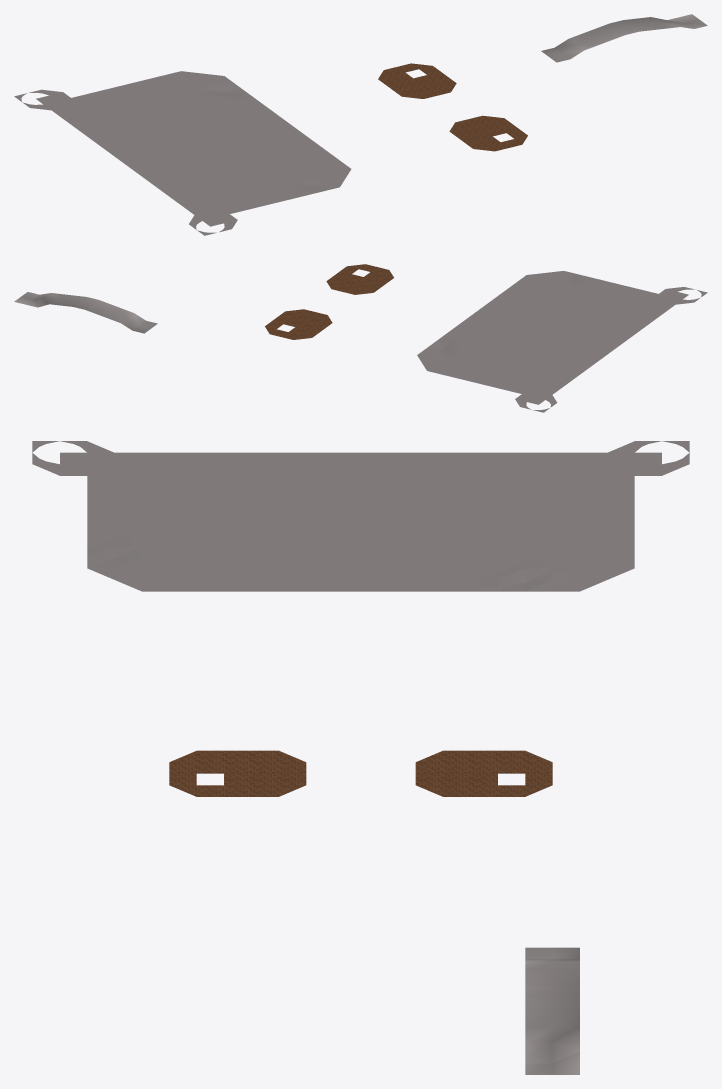
3 views of the same model, one above another, from view 1: azimuth 30°, elevation 25°; view 2: azimuth 150°, elevation 25°; view 3: azimuth 270°, elevation 25° (orthographic). The views are drawn at different scales.
Parts seen in each view (by area): view 1: model; view 2: model; view 3: model.
Boxes of the visible parts, x1=… form: model: x1=14, y1=14, x2=707, y2=235; model: x1=14, y1=264, x2=707, y2=412; model: x1=32, y1=441, x2=689, y2=1074.
Size of the model in its own units: 47 by 3.62 by 24.
Materials: 2 (1 with a texture image).
